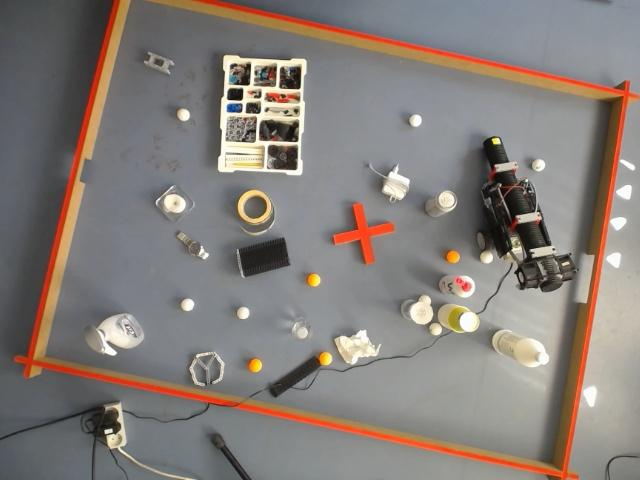orange: (305, 272, 323, 287), (248, 358, 264, 373), (318, 352, 334, 367), (446, 250, 460, 264)
robot: (478, 136, 578, 292)
robot-front: (484, 136, 508, 165)
white: (176, 106, 192, 123), (236, 305, 252, 322), (179, 298, 197, 313), (530, 158, 546, 174), (408, 113, 424, 127), (429, 323, 444, 337), (480, 251, 495, 264)
